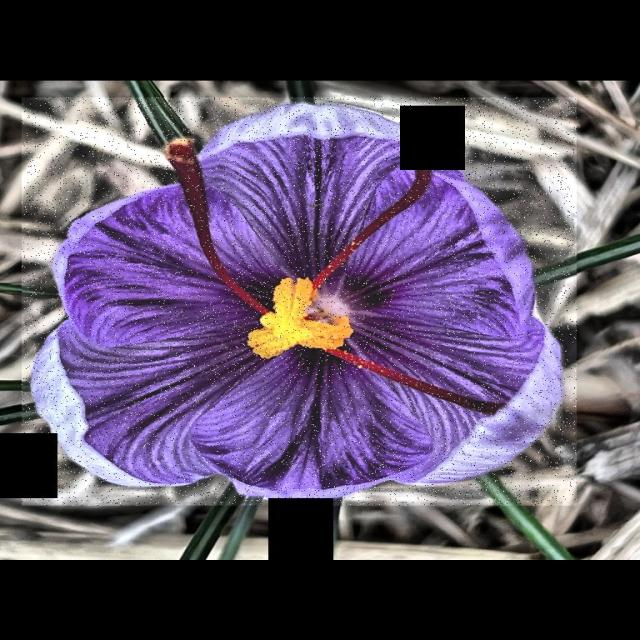Flower: (31, 104, 564, 500)
stigma: (163, 134, 273, 314), (305, 170, 435, 290), (323, 349, 505, 415)
